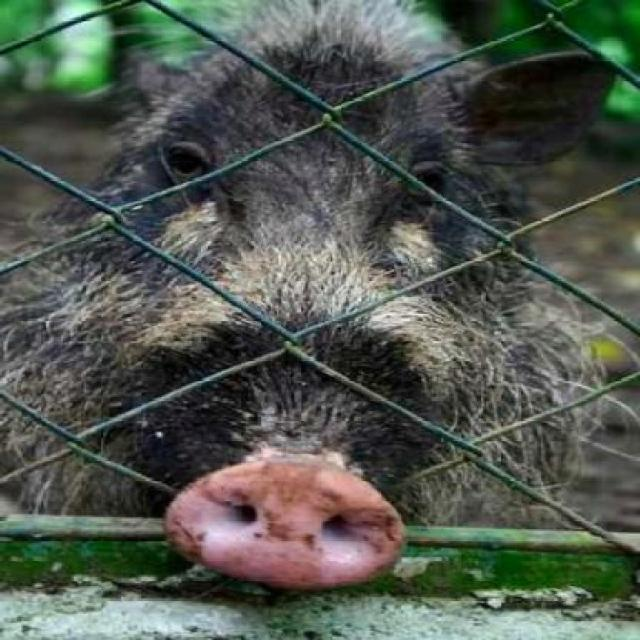Boar: (1, 0, 624, 591)
